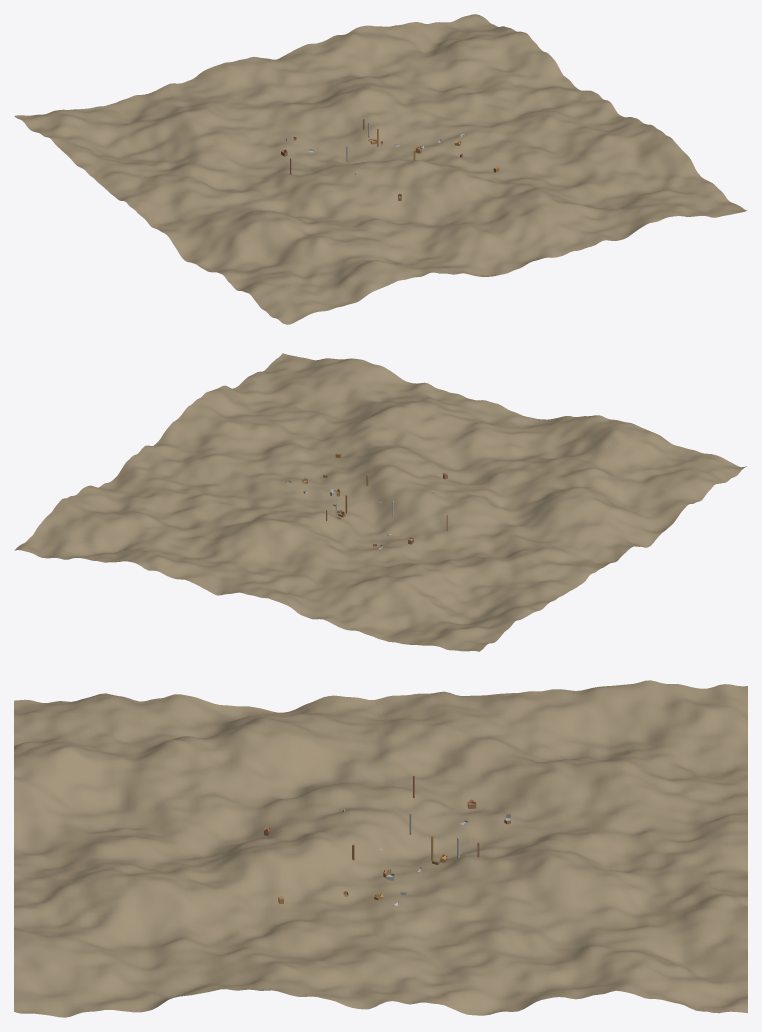
The model's file is wasteland_verify.glb.
3 renders of one model, top to bottom at view 1: azimuth 30°, elevation 25°; view 2: azimuth 150°, elevation 25°; view 3: azimuth 270°, elevation 25°, orthographic. The views are drawn at different scales.
Parts seen in each view (by area): view 1: Wasteland_Terrain; view 2: Wasteland_Terrain; view 3: Wasteland_Terrain.
Boxes of the visible parts, left/top/right/bottom form: Wasteland_Terrain: left=14, top=14, right=747, bottom=324; Wasteland_Terrain: left=14, top=353, right=746, bottom=651; Wasteland_Terrain: left=14, top=680, right=747, bottom=1017.
Size of the model in its own units: 1000 by 62.97 by 1000.
